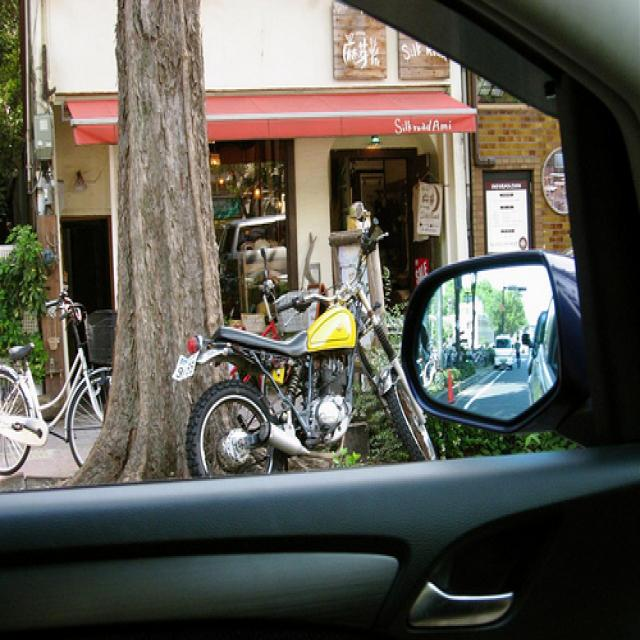motor: (186, 226, 439, 479)
